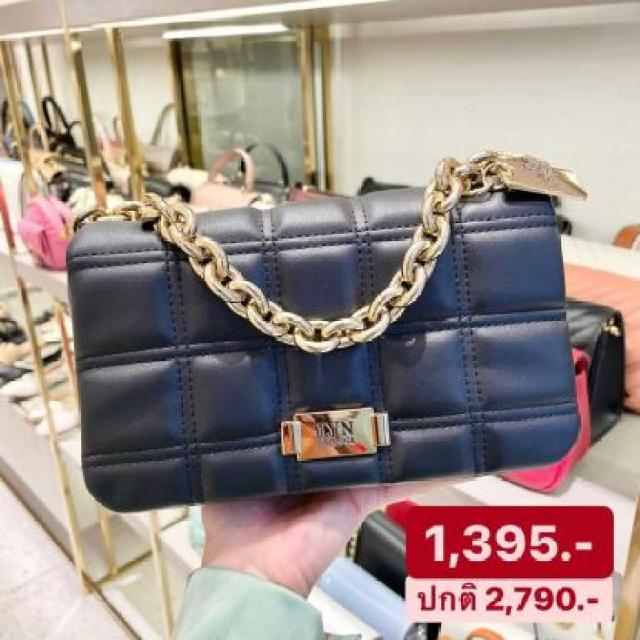Bag: (32, 156, 603, 539)
